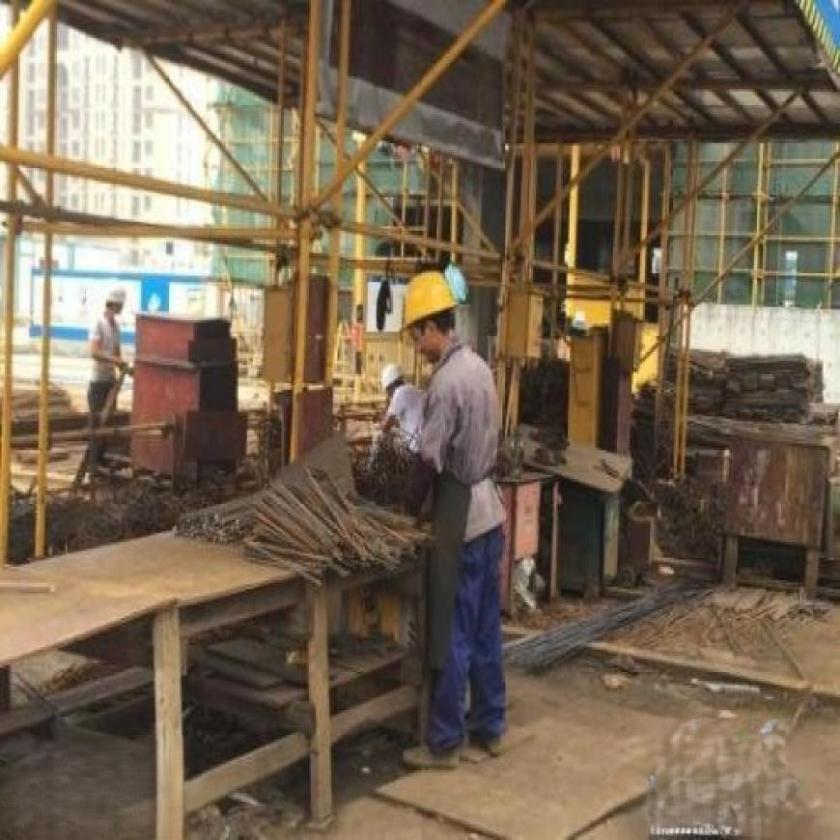Con_casco: (403, 268, 457, 364)
